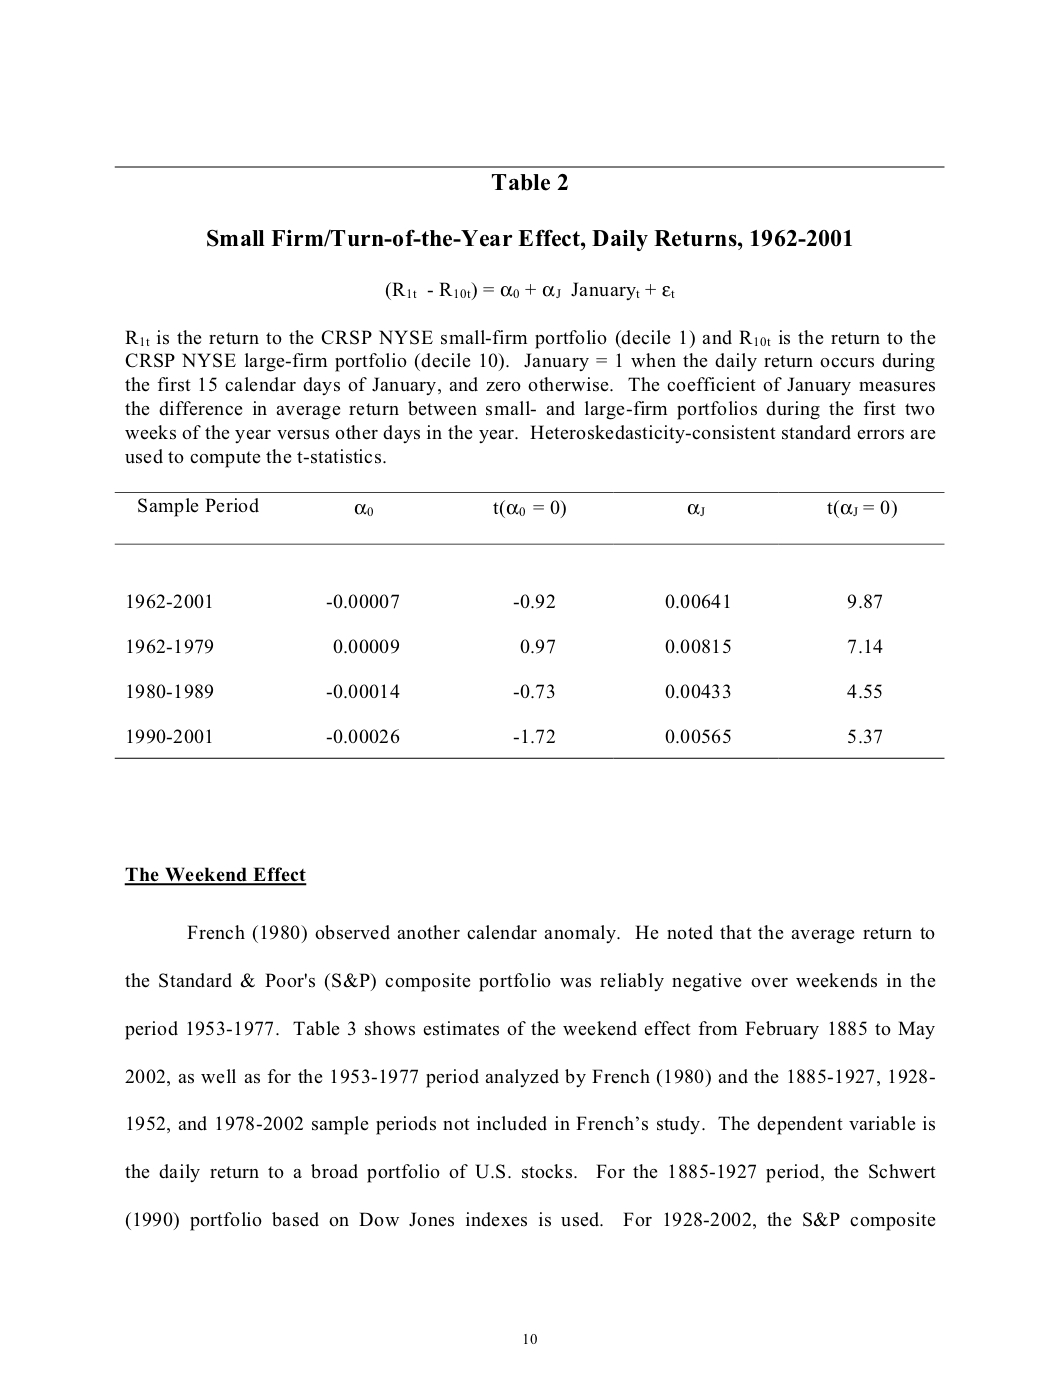Table: (114, 491, 944, 758)
formula: (385, 281, 674, 301)
